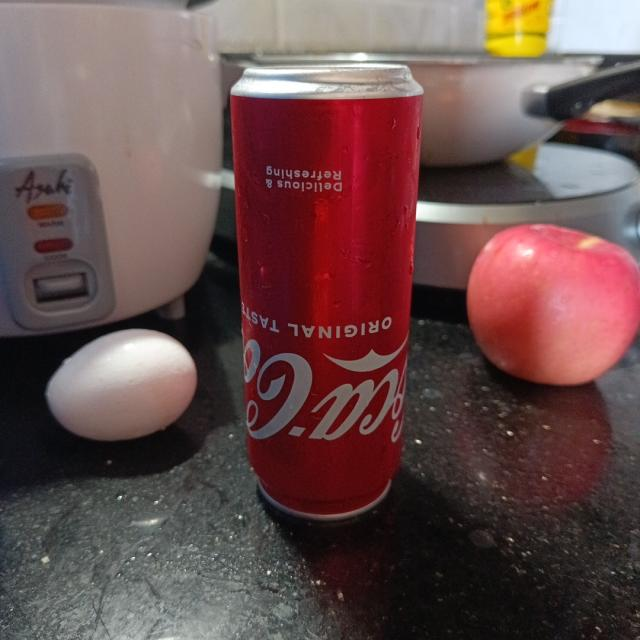apple: (466, 222, 640, 382)
coke: (230, 60, 425, 517)
egg: (46, 329, 196, 441)
